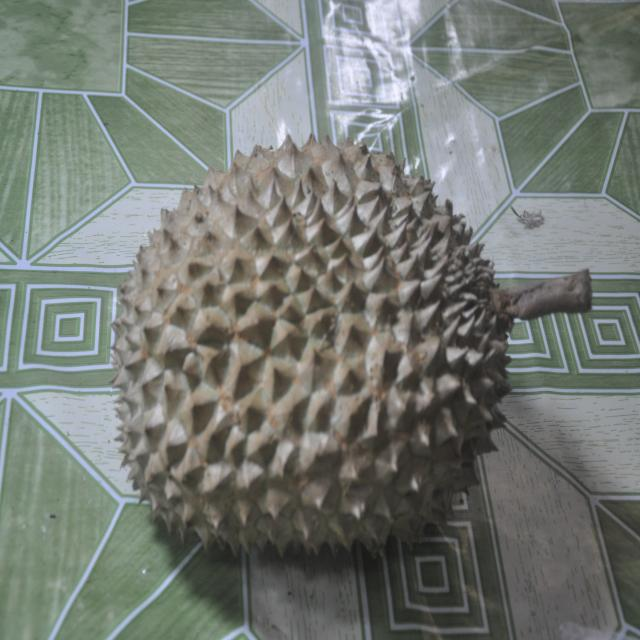mature: (113, 135, 511, 555)
